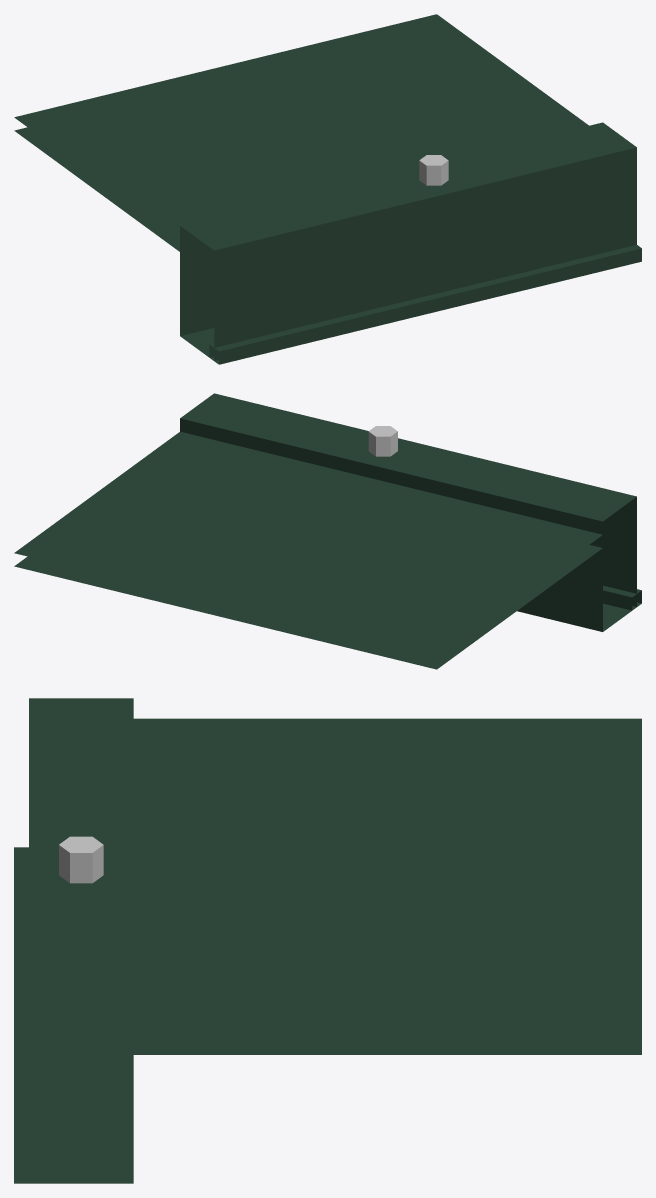
Rendered from cell_32.obj.
3 renders of one model, top to bottom at view 1: azimuth 30°, elevation 25°; view 2: azimuth 150°, elevation 25°; view 3: azimuth 270°, elevation 25°, orthographic. The views are drawn at different scales.
Bounding box in the file's own units: 1 × 0.295 × 0.84.
